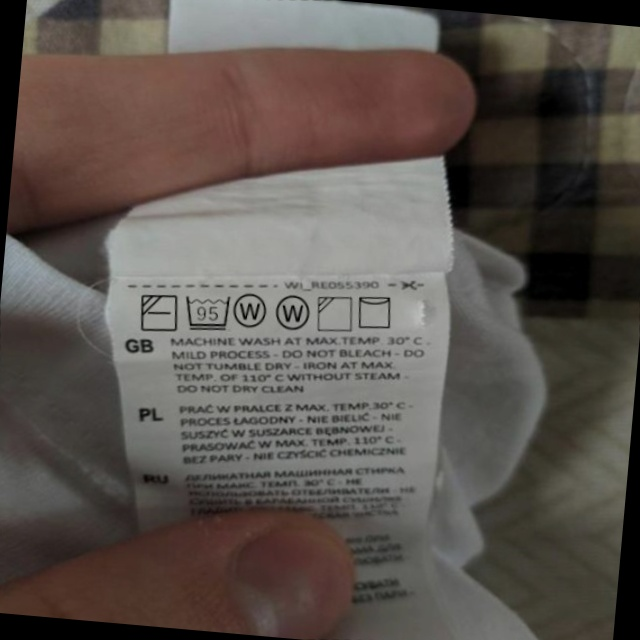95C: (181, 289, 235, 335)
dry_flat_in_shade: (136, 288, 182, 337)
line_dry: (353, 289, 398, 334)
shade_dry: (313, 291, 357, 336)
wet_clean: (272, 291, 314, 336), (231, 286, 272, 332)
